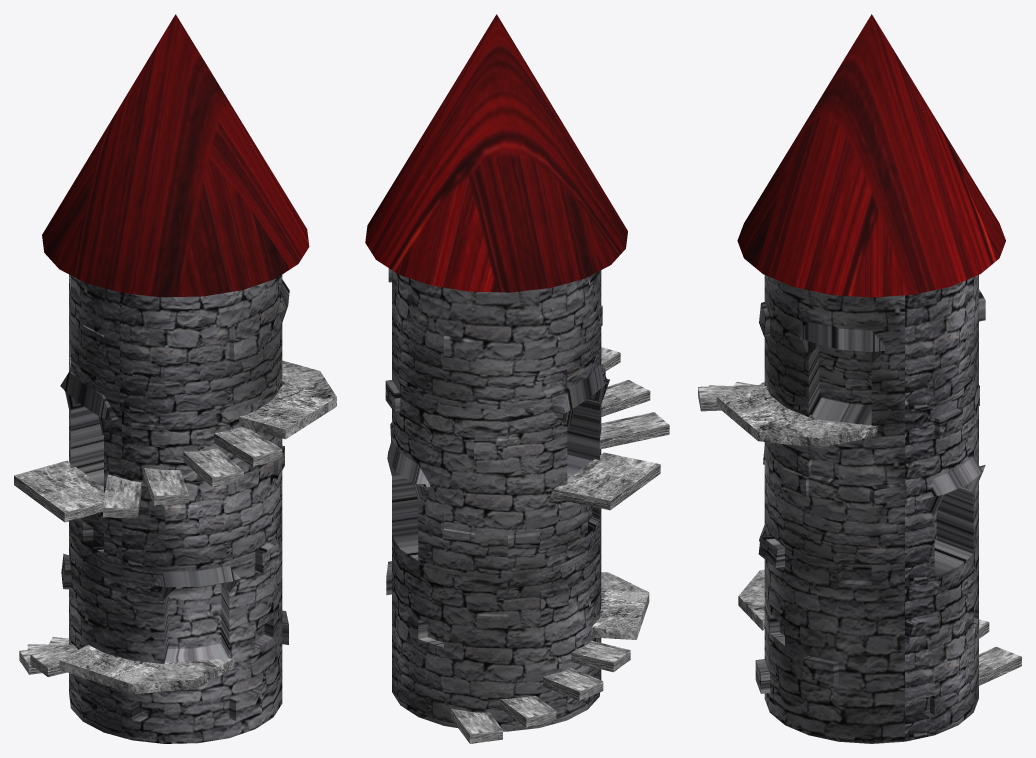
The model's file is CastleTower.fbx.
3 views of the same model, side by side, from view 1: azimuth 30°, elevation 25°; view 2: azimuth 150°, elevation 25°; view 3: azimuth 270°, elevation 25° (orthographic).
Visible parts, largest first — view 1: FullTower; view 2: FullTower; view 3: FullTower.
Boxes of the visible parts, x1,y1,x2,y2 form: FullTower: [14, 14, 336, 743]; FullTower: [365, 14, 669, 743]; FullTower: [698, 14, 1021, 743].
Size of the model in its own units: 2.77 by 7.05 by 3.02.
Materials: 1 (1 with a texture image).
